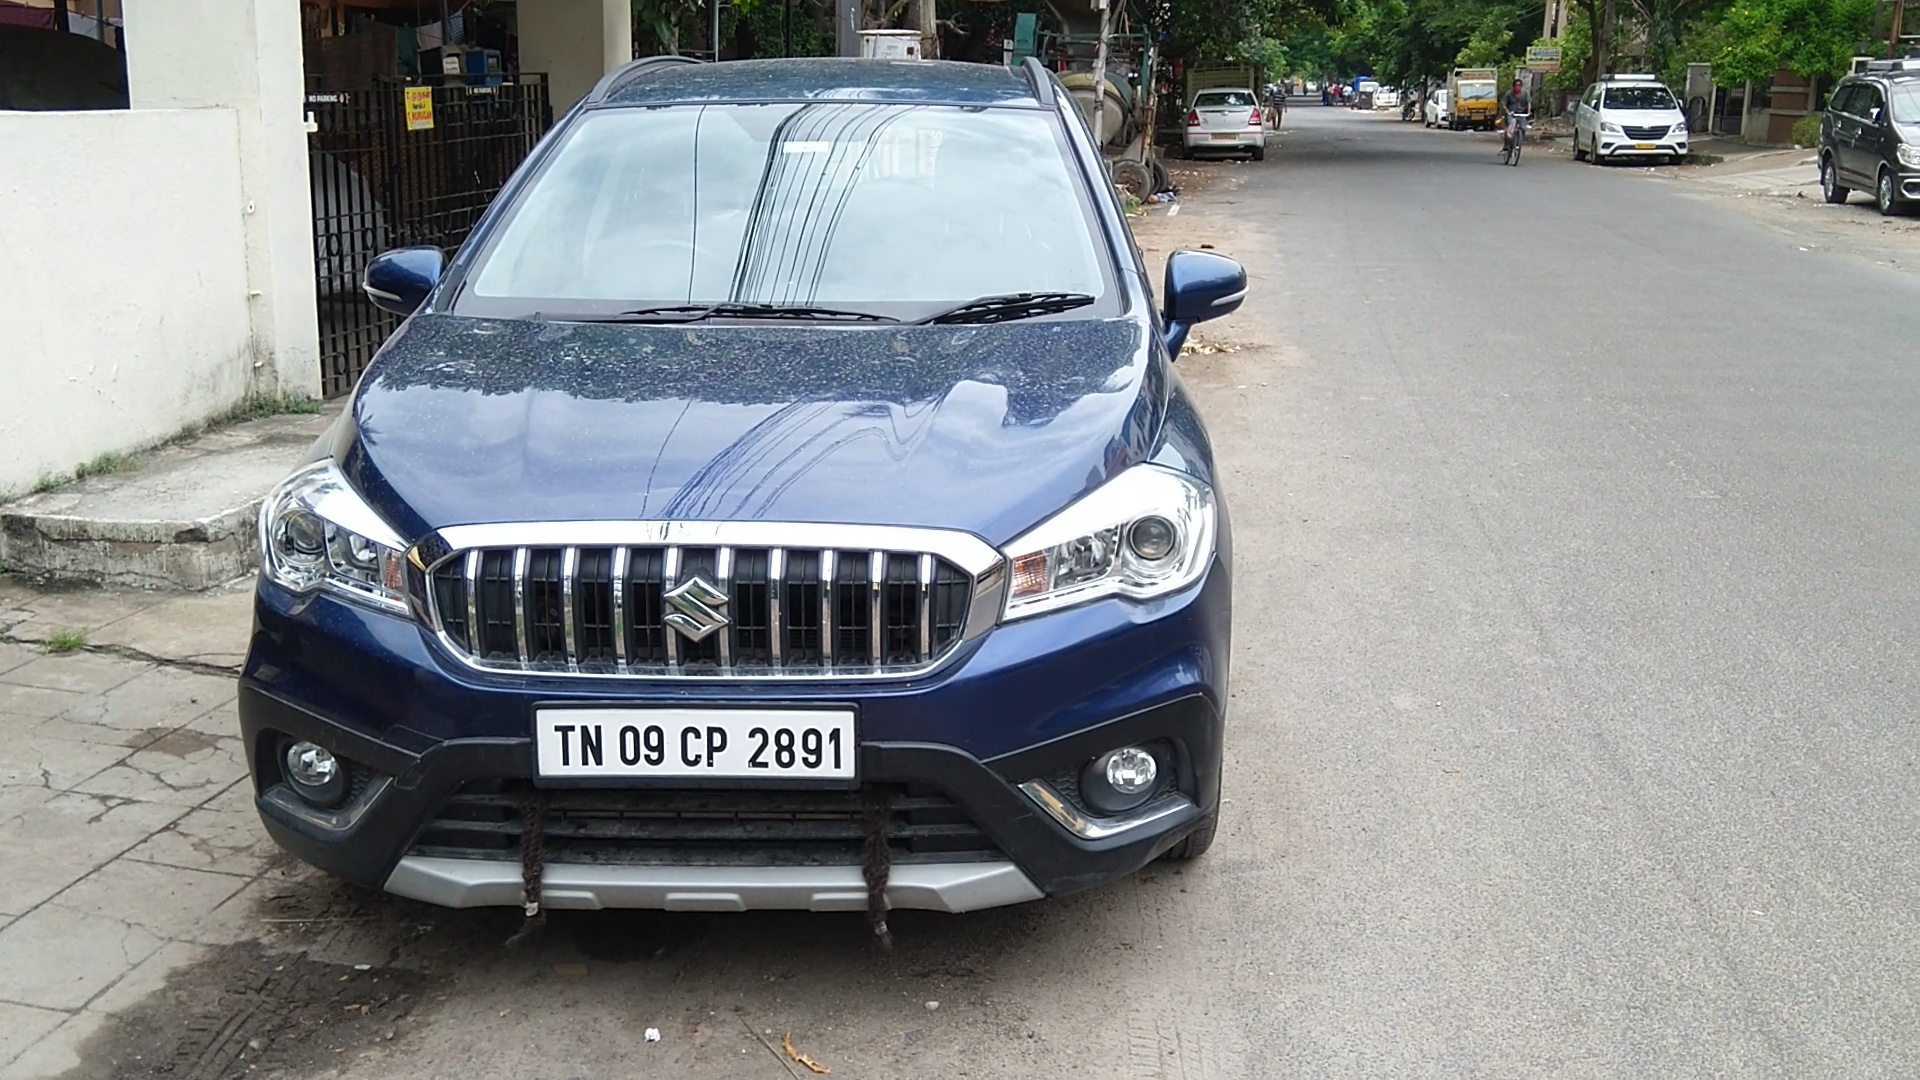front_grill: (406, 521, 1005, 702)
headlamp: (1007, 458, 1221, 636), (256, 451, 406, 618)
ovr_mirror: (1158, 243, 1251, 340), (353, 236, 444, 318)
